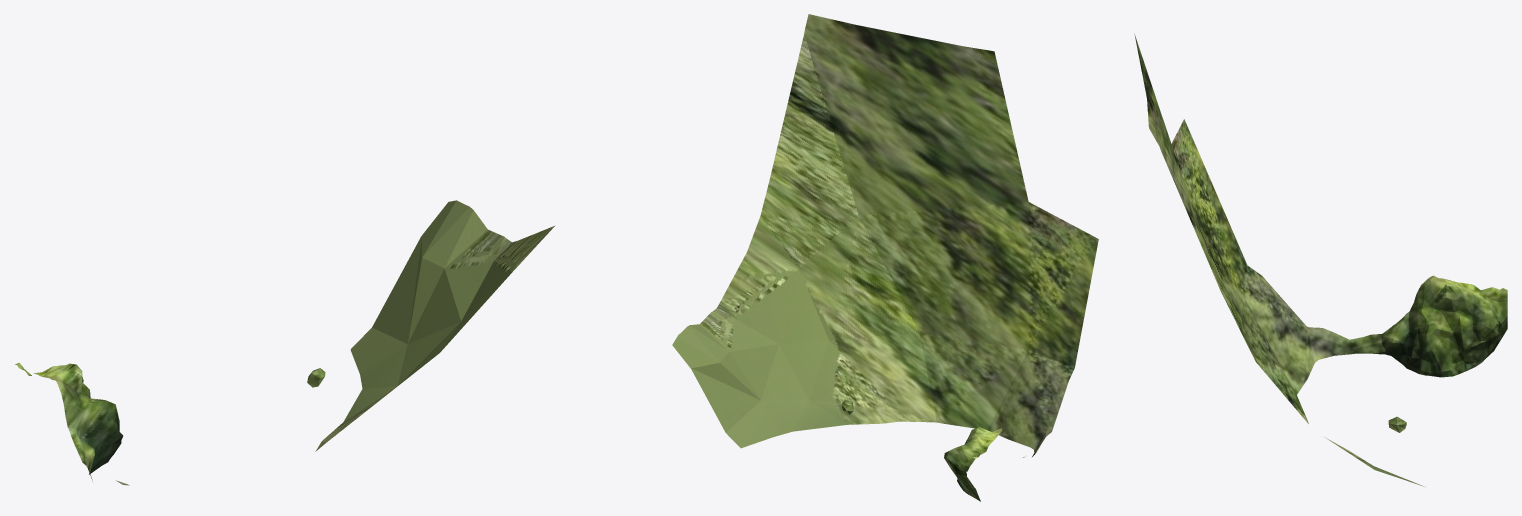
3 views of the same model, side by side, from view 1: azimuth 30°, elevation 25°; view 2: azimuth 150°, elevation 25°; view 3: azimuth 270°, elevation 25° (orthographic). The views are drawn at different scales.
Bounding box in the file's own units: 26.11 × 26.11 × 21.54.
Materials: 3 (3 with a texture image).
